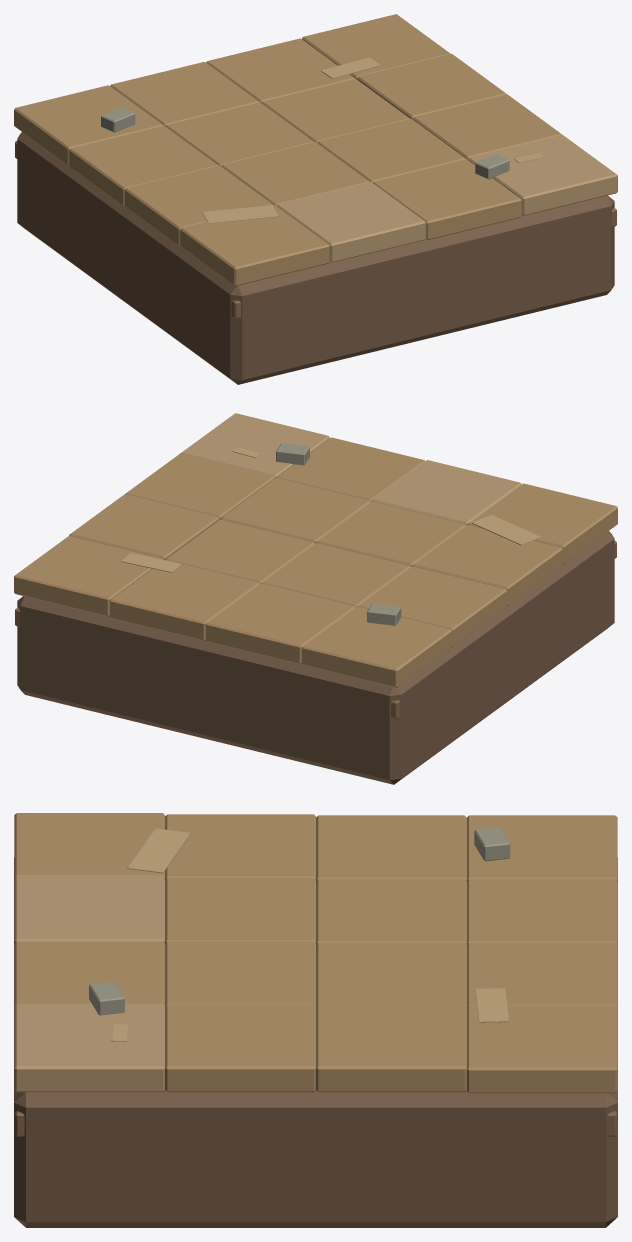
The model's file is warm_ground_2.glb.
The picture shows the model from 3 angles, top to bottom: view 1: azimuth 30°, elevation 25°; view 2: azimuth 150°, elevation 25°; view 3: azimuth 270°, elevation 25°; orthographic projection. The views are drawn at different scales.
Visible parts, largest first — view 1: ground_2_sample_earth, ground_2_sample_soil, ground_2_sample_dust, ground_2_sample_sand, ground_2_sample_stone; view 2: ground_2_sample_earth, ground_2_sample_soil, ground_2_sample_dust, ground_2_sample_sand, ground_2_sample_stone; view 3: ground_2_sample_earth, ground_2_sample_soil, ground_2_sample_dust, ground_2_sample_sand, ground_2_sample_stone.
Part boxes in pixels (box(x1,y1,x2,y2)): ground_2_sample_earth: box(14, 14, 562, 286); ground_2_sample_soil: box(17, 132, 614, 384); ground_2_sample_dust: box(276, 135, 617, 262); ground_2_sample_sand: box(202, 57, 544, 223); ground_2_sample_stone: box(101, 107, 509, 179); ground_2_sample_earth: box(14, 437, 617, 687); ground_2_sample_soil: box(17, 531, 614, 784); ground_2_sample_dust: box(180, 413, 521, 525); ground_2_sample_sand: box(121, 447, 541, 572); ground_2_sample_stone: box(276, 443, 401, 625); ground_2_sample_earth: box(14, 813, 617, 1093); ground_2_sample_soil: box(14, 857, 617, 1227); ground_2_sample_dust: box(14, 877, 164, 1092); ground_2_sample_sand: box(111, 828, 508, 1041); ground_2_sample_stone: box(89, 827, 510, 1015).
Bounding box in the file's own units: 0.925 × 0.3055 × 0.925.
